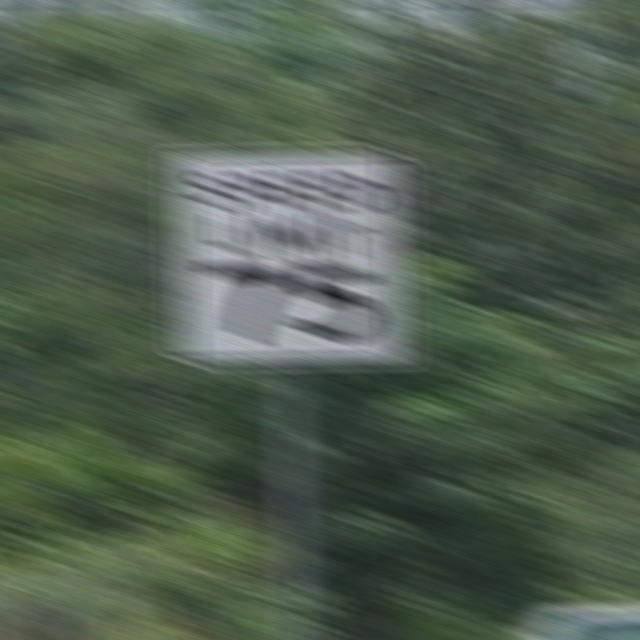speedLimit75: (164, 138, 413, 374)
